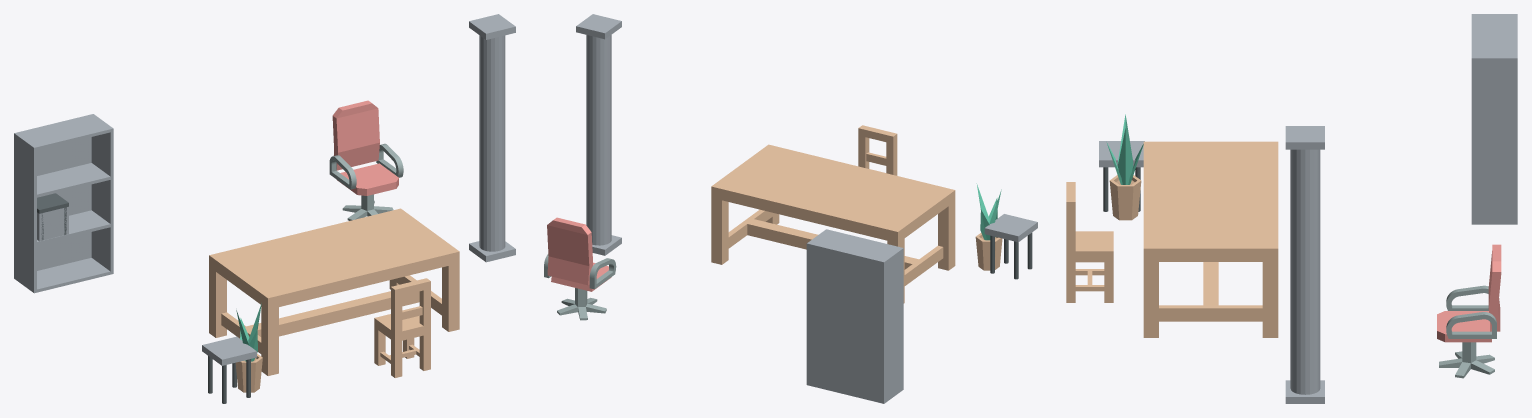
3 views of the same model, side by side, from view 1: azimuth 30°, elevation 25°; view 2: azimuth 150°, elevation 25°; view 3: azimuth 270°, elevation 25° (orthographic). The views are drawn at different scales.
Visible parts, largest first — view 1: table_green__table(Clone), column_cyan__column_cyan shaft, deskchair_black__chair, chair_cyan__chair(Clone), shelf_orange__shelf_orange back, shelf_orange__shelf_orange side_l, shelf_orange__shelf_orange side_r, shelf_orange__shelf_orange board3, shelf_orange__shelf_orange board0, shelf_orange__shelf_orange board2, stool_purple__stool_purple seat, box_yellow__box_yellow shell (+7 smaller); view 2: table_green__table(Clone), shelf_orange__shelf_orange back, column_cyan__column_cyan shaft, deskchair_black__chair, shelf_orange__shelf_orange side_l, chair_cyan__chair(Clone), shelf_orange__shelf_orange board3, stool_purple__stool_purple seat, column_cyan__column_cyan capital, deskchair_black__chairDesk(Clone), plant_pink__pottedPlant(Clone), shelf_orange__shelf_orange side_r (+1 smaller); view 3: table_green__table(Clone), shelf_orange__shelf_orange side_r, column_cyan__column_cyan shaft, deskchair_black__chair, chair_cyan__chair(Clone), shelf_orange__shelf_orange board3, plant_pink__pottedPlant(Clone), deskchair_black__chairDesk(Clone), column_cyan__column_cyan capital, plant_pink__plant, stool_purple__stool_purple seat, column_cyan__column_cyan plinth.
Part boxes in pixels (<box>): table_green__table(Clone): <box>209,208,459,375</box>; column_cyan__column_cyan shaft: <box>479,35,505,251</box>; deskchair_black__chair: <box>329,100,403,195</box>; chair_cyan__chair(Clone): <box>374,278,430,377</box>; shelf_orange__shelf_orange back: <box>17,114,91,270</box>; shelf_orange__shelf_orange side_l: <box>14,132,36,293</box>; shelf_orange__shelf_orange side_r: <box>91,114,113,274</box>; shelf_orange__shelf_orange board3: <box>18,115,110,150</box>; shelf_orange__shelf_orange board0: <box>37,258,110,292</box>; shelf_orange__shelf_orange board2: <box>37,163,110,197</box>; stool_purple__stool_purple seat: <box>202,336,256,365</box>; box_yellow__box_yellow shell: <box>37,206,68,241</box>; table_green__table(Clone): <box>711,144,955,303</box>; shelf_orange__shelf_orange back: <box>809,243,881,402</box>; column_cyan__column_cyan shaft: <box>586,35,611,245</box>; deskchair_black__chair: <box>544,217,616,291</box>; shelf_orange__shelf_orange side_l: <box>881,247,903,403</box>; chair_cyan__chair(Clone): <box>858,125,897,175</box>; shelf_orange__shelf_orange board3: <box>811,230,900,260</box>; stool_purple__stool_purple seat: <box>984,214,1037,242</box>; column_cyan__column_cyan capital: <box>576,14,621,39</box>; deskchair_black__chairDesk(Clone): <box>557,288,606,320</box>; plant_pink__pottedPlant(Clone): <box>975,233,1002,270</box>; shelf_orange__shelf_orange side_r: <box>806,229,828,385</box>; table_green__table(Clone): <box>1143,141,1278,337</box>; shelf_orange__shelf_orange side_r: <box>1471,56,1517,224</box>; column_cyan__column_cyan shaft: <box>1290,149,1320,394</box>; deskchair_black__chair: <box>1437,244,1501,342</box>; chair_cyan__chair(Clone): <box>1066,182,1113,302</box>; shelf_orange__shelf_orange board3: <box>1471,15,1514,56</box>; plant_pink__pottedPlant(Clone): <box>1109,175,1141,220</box>; deskchair_black__chairDesk(Clone): <box>1439,342,1494,378</box>; column_cyan__column_cyan capital: <box>1285,126,1324,149</box>; plant_pink__plant: <box>1106,114,1143,184</box>; stool_purple__stool_purple seat: <box>1099,141,1144,167</box>; column_cyan__column_cyan plinth: <box>1285,380,1324,403</box>.
Bounding box in the file's own units: 4.03 × 2.2 × 3.44.
